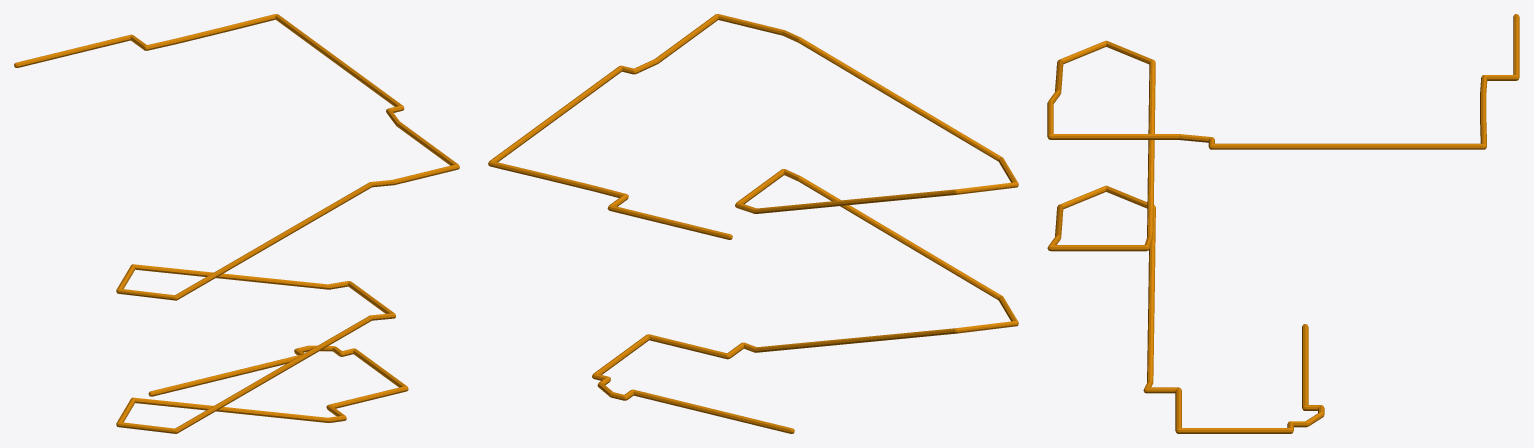
3 views of the same model, side by side, from view 1: azimuth 30°, elevation 25°; view 2: azimuth 150°, elevation 25°; view 3: azimuth 270°, elevation 25° (orthographic). The views are drawn at different scales.
Bounding box in the file's own units: 1319 × 1020 × 1475.
